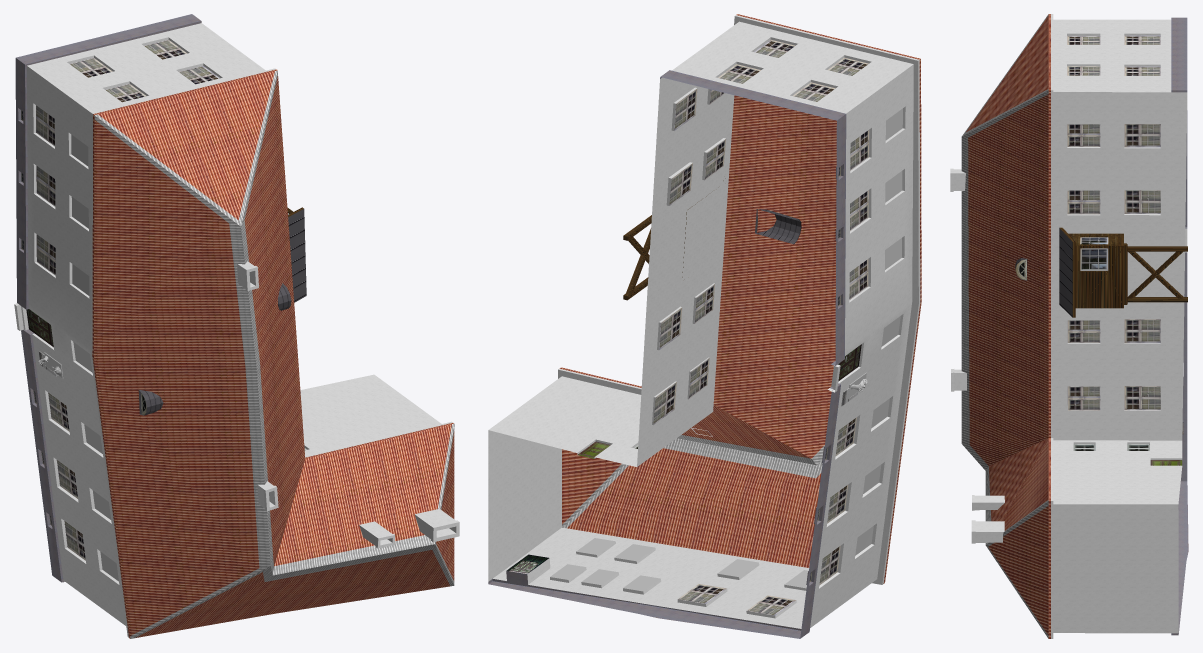
The model's file is Toom-Kooli_4.obj.
3 renders of one model, left to right at view 1: azimuth 30°, elevation 25°; view 2: azimuth 150°, elevation 25°; view 3: azimuth 270°, elevation 25°, orthographic. The views are drawn at different scales.
Parts seen in each view (by area): view 1: Toom_Kooli_4; view 2: Toom_Kooli_4; view 3: Toom_Kooli_4.
Part boxes in pixels (x1=…): Toom_Kooli_4: x1=14, y1=14, x2=459, y2=638; Toom_Kooli_4: x1=488, y1=14, x2=921, y2=638; Toom_Kooli_4: x1=950, y1=14, x2=1188, y2=638.
Bounding box in the file's own units: 23.67 × 35.02 × 15.9.
